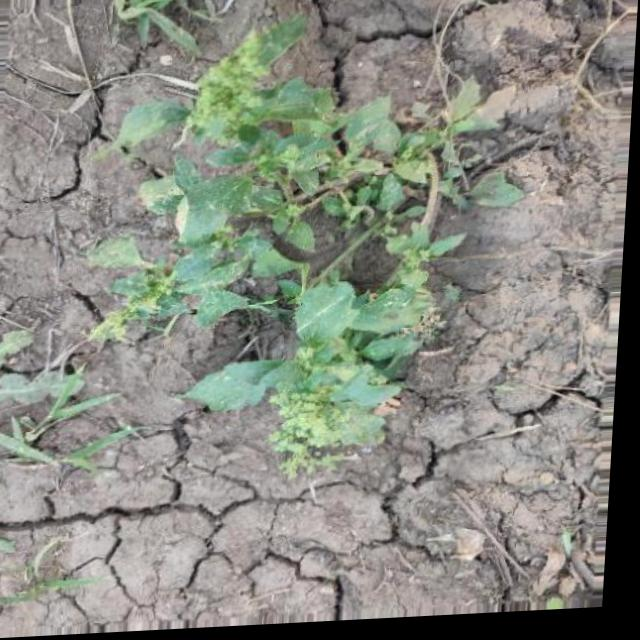weed: (90, 50, 496, 469)
